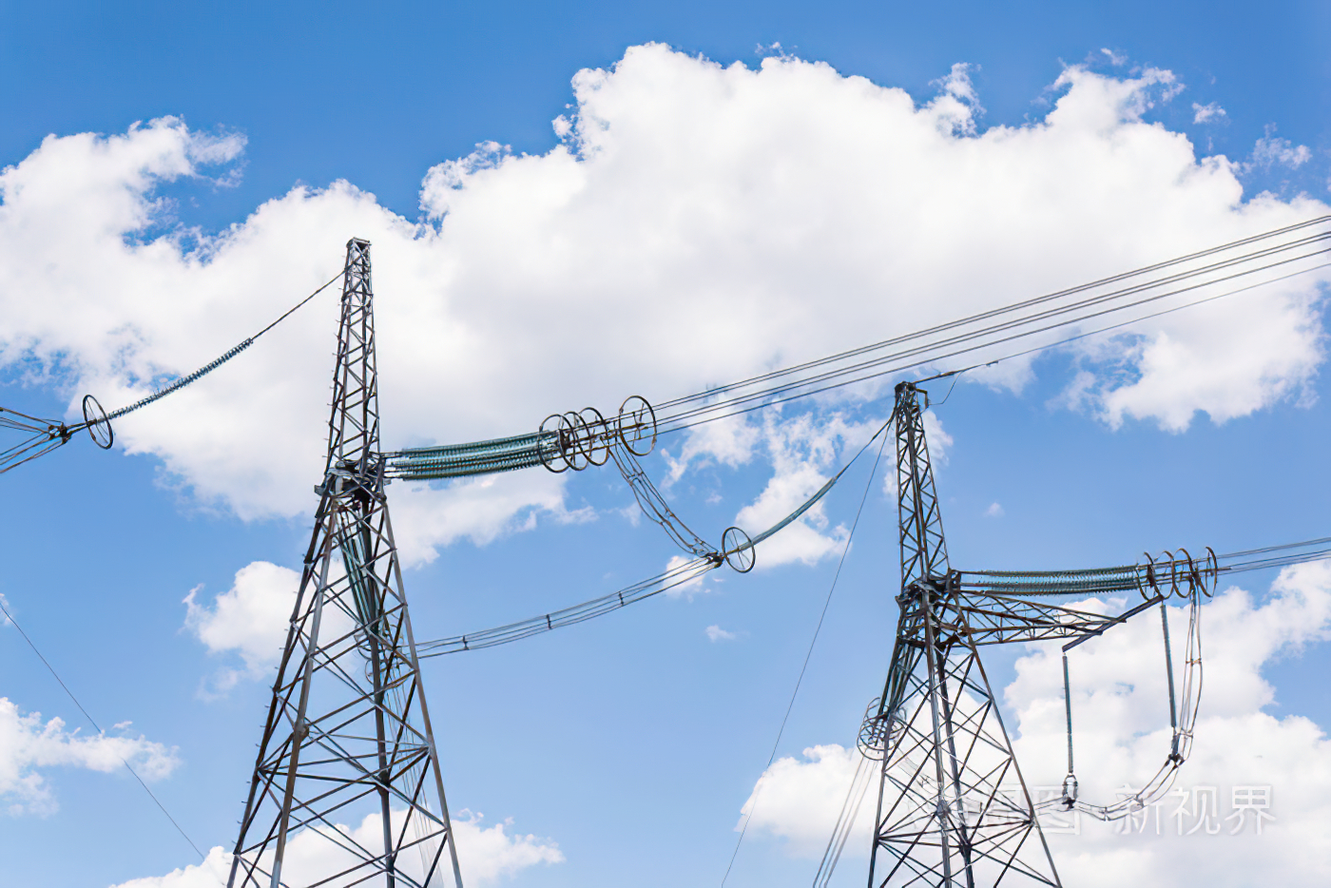insulator: (98, 337, 254, 425), (395, 423, 558, 484), (987, 559, 1149, 598)
